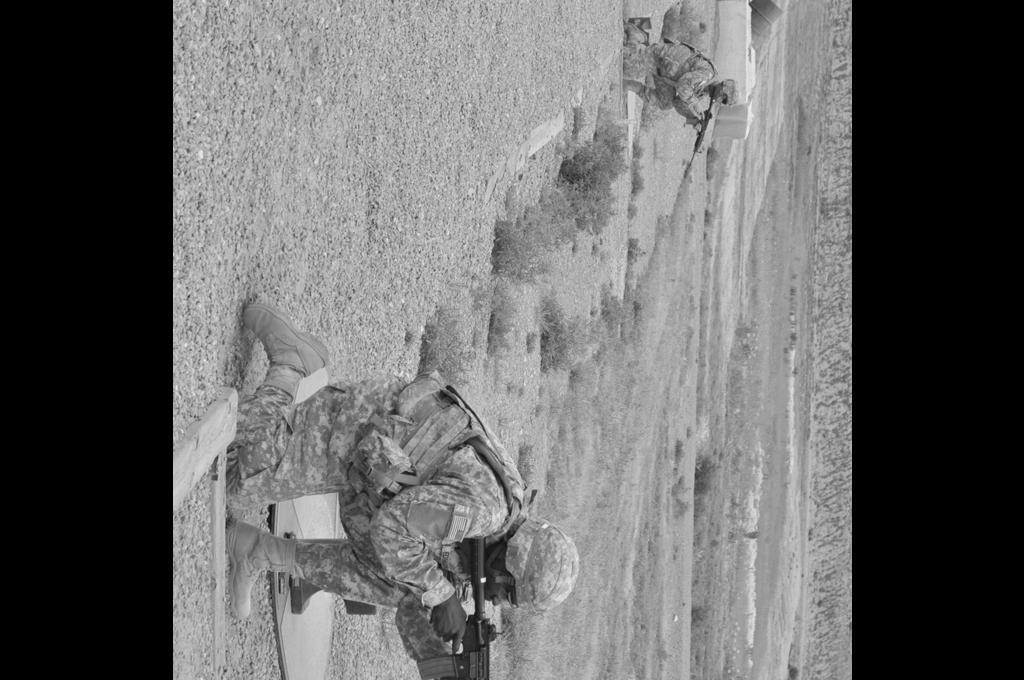gun: (416, 544, 504, 680)
